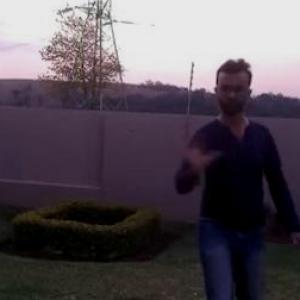follow_hand: (176, 126, 218, 172)
